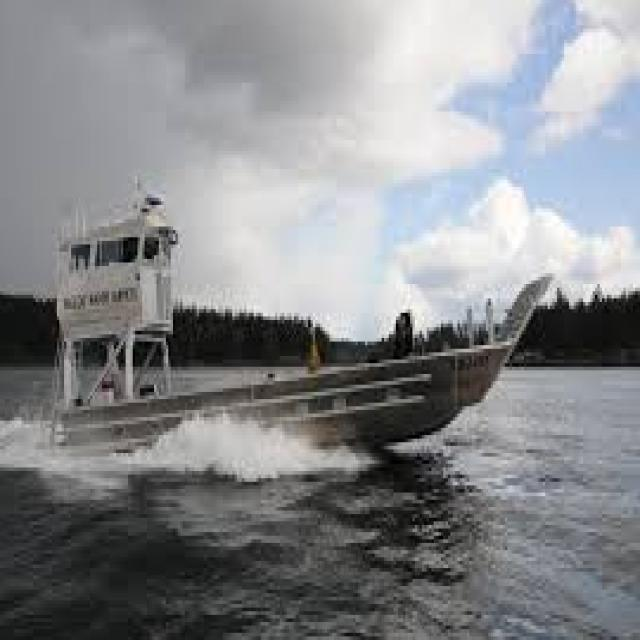houseboat: (49, 189, 557, 465)
